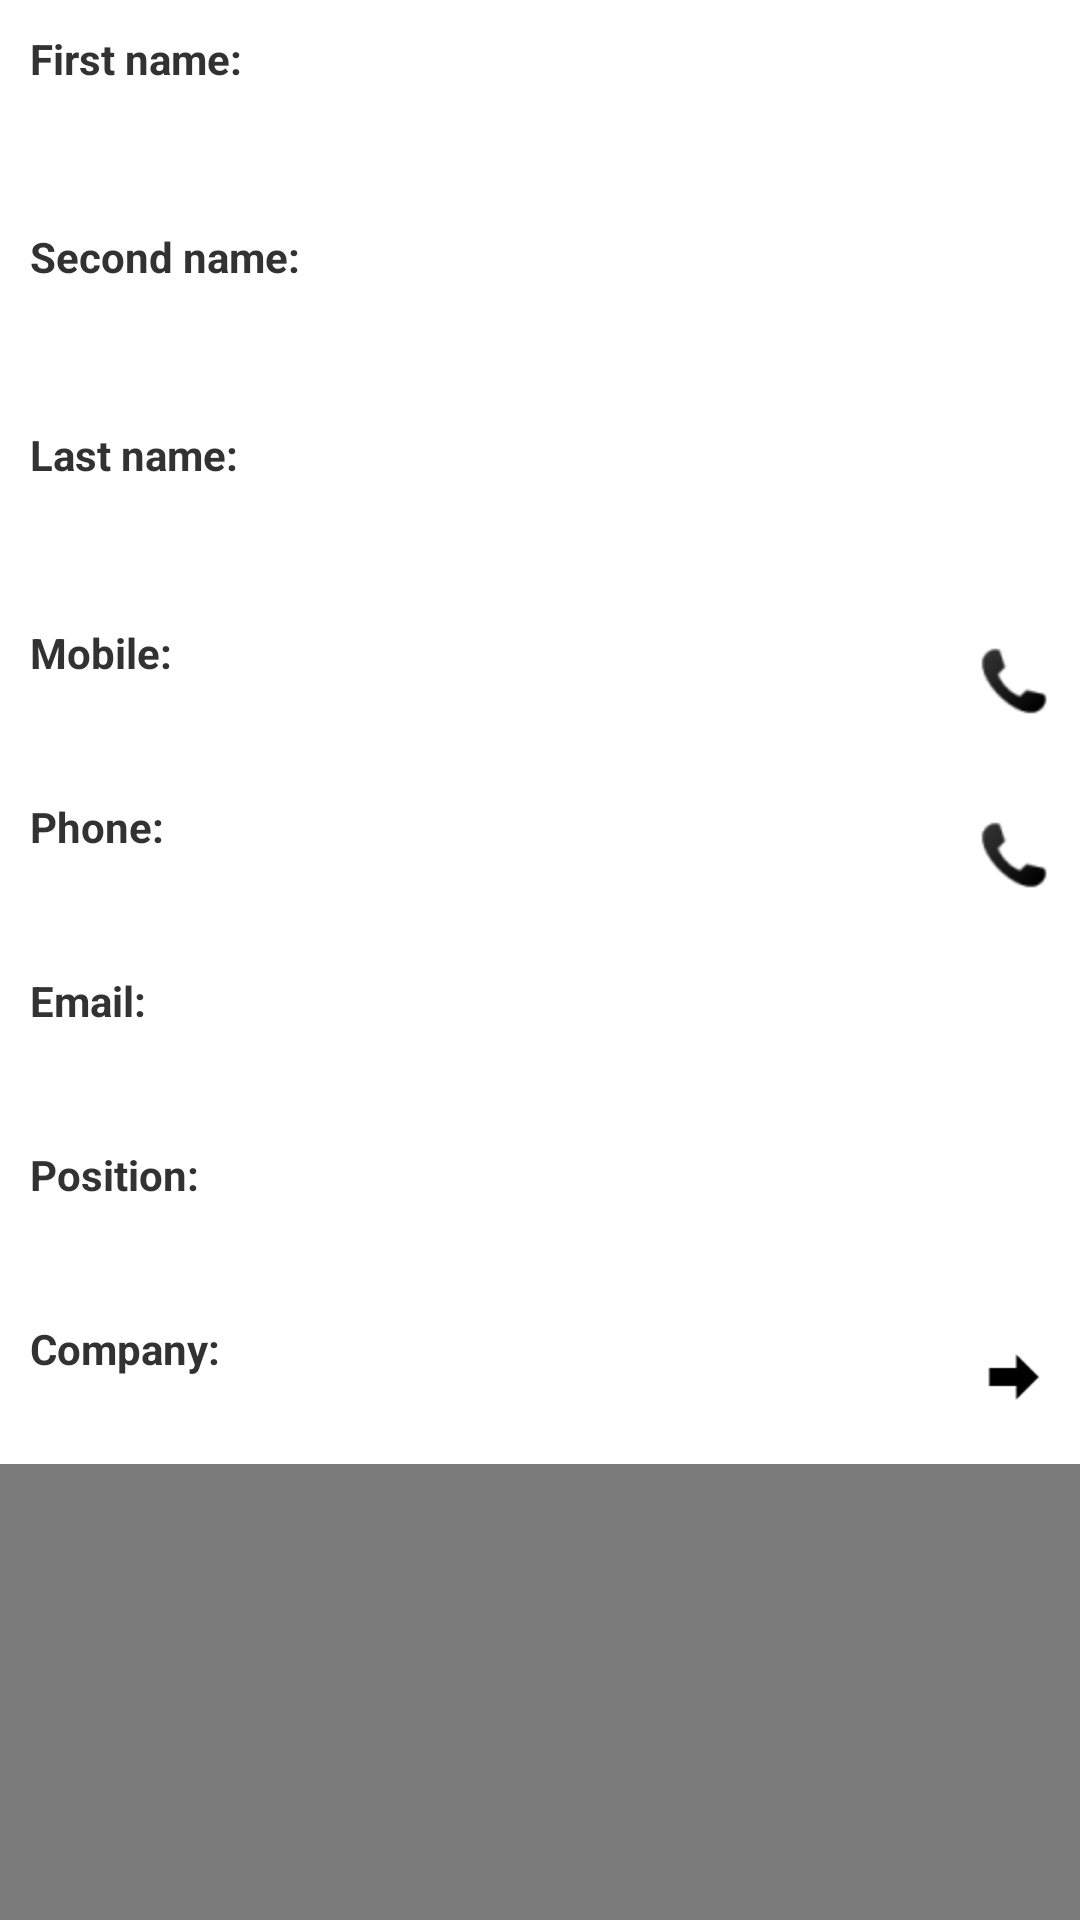

Named icons in this screenshot (1080x1920) and their centers, [x,y]:
phone: [1014,681], [1014,855]
